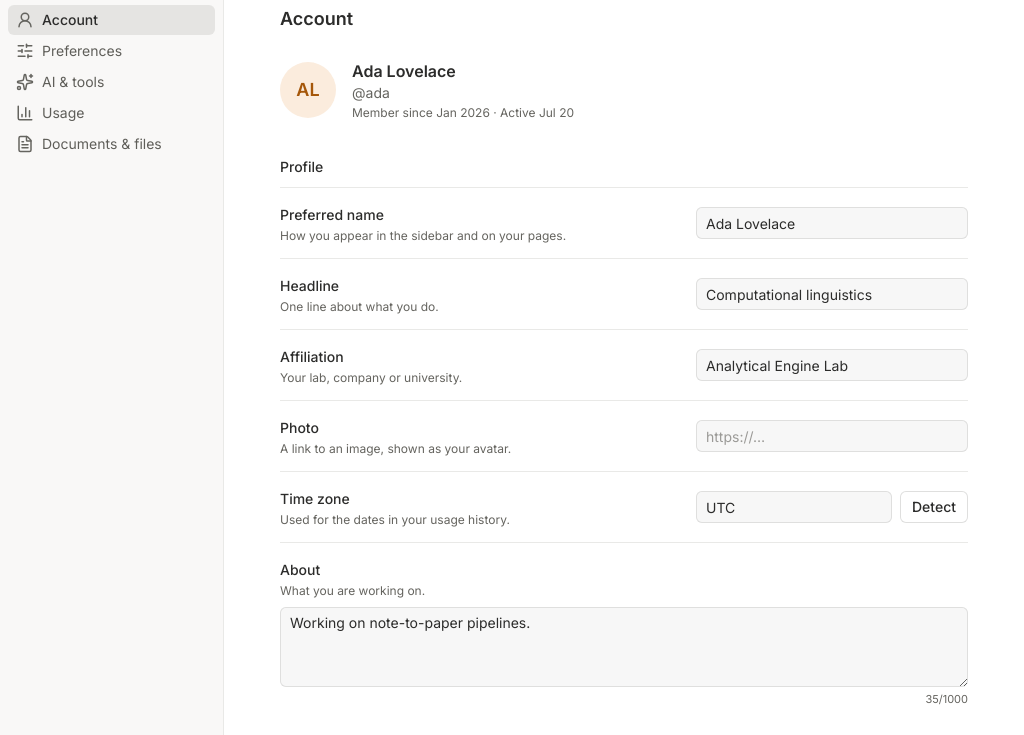
Test: ProfileView › discards unsaved edits from the save bar
Expected: the heading "Ada Lovelace" is shown, left=352, top=59, right=456, bottom=83
Replace the text in the field labelled "Affiliation" with "Elsewhere" at (832, 365), box left=696, top=349, right=968, bottom=381
(page scrolled)
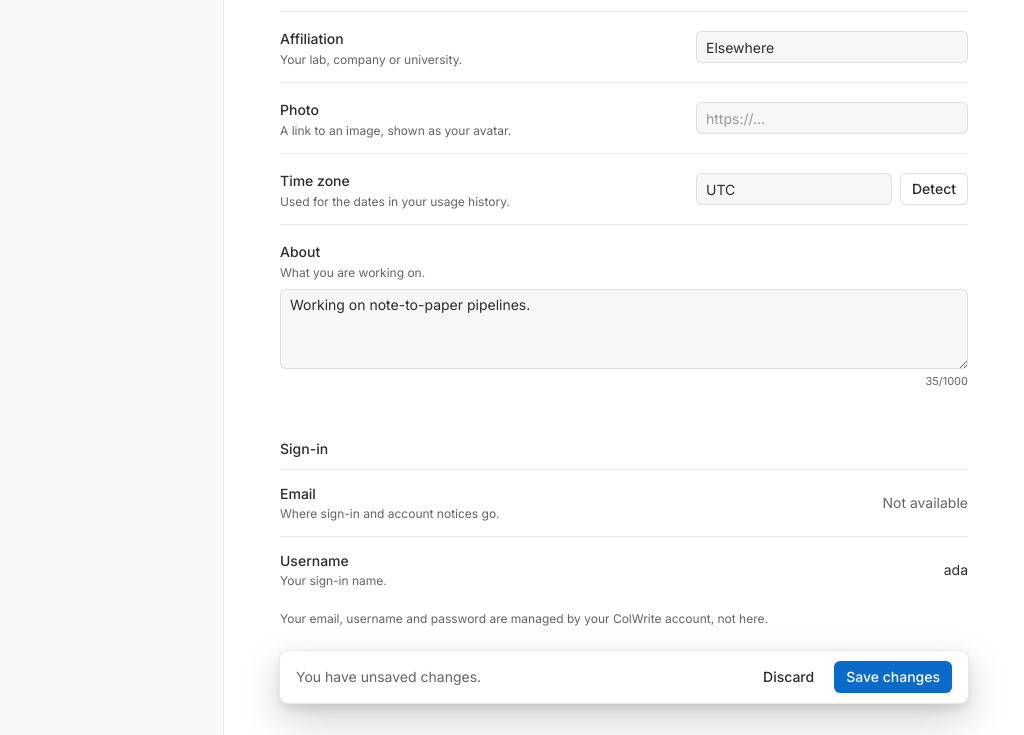
Click the button "Discard" at (789, 677), box left=751, top=661, right=826, bottom=693
(page scrolled)
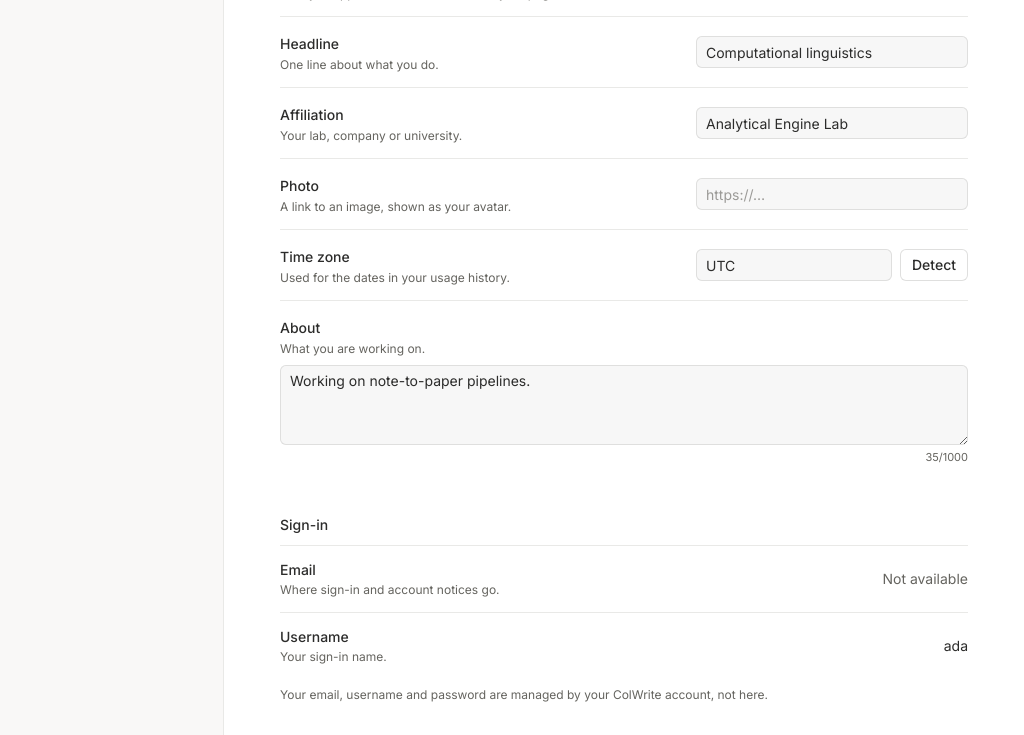
Result: the field labelled "Affiliation" holds "Analytical Engine Lab" at left=696, top=107, right=968, bottom=139
Result: the text "unsaved changes" is gone
